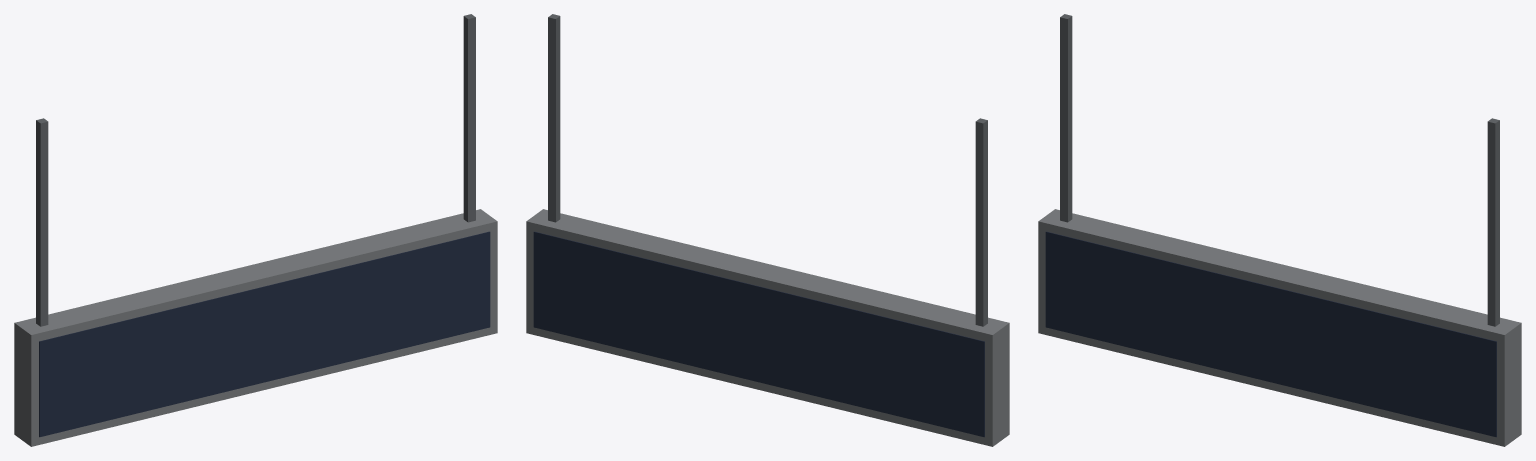
The model's file is departure-display-hanging.gltf.
3 renders of one model, left to right at view 1: azimuth 30°, elevation 25°; view 2: azimuth 150°, elevation 25°; view 3: azimuth 330°, elevation 25°, orthographic.
Visible parts, largest first — view 1: departure-display-hanging; view 2: departure-display-hanging; view 3: departure-display-hanging.
Part boxes in pixels (<box>): departure-display-hanging: <box>14,14,497,446</box>; departure-display-hanging: <box>526,14,1009,446</box>; departure-display-hanging: <box>1038,14,1521,446</box>.
Size of the model in its own units: 2.4 by 1.55 by 0.16.
